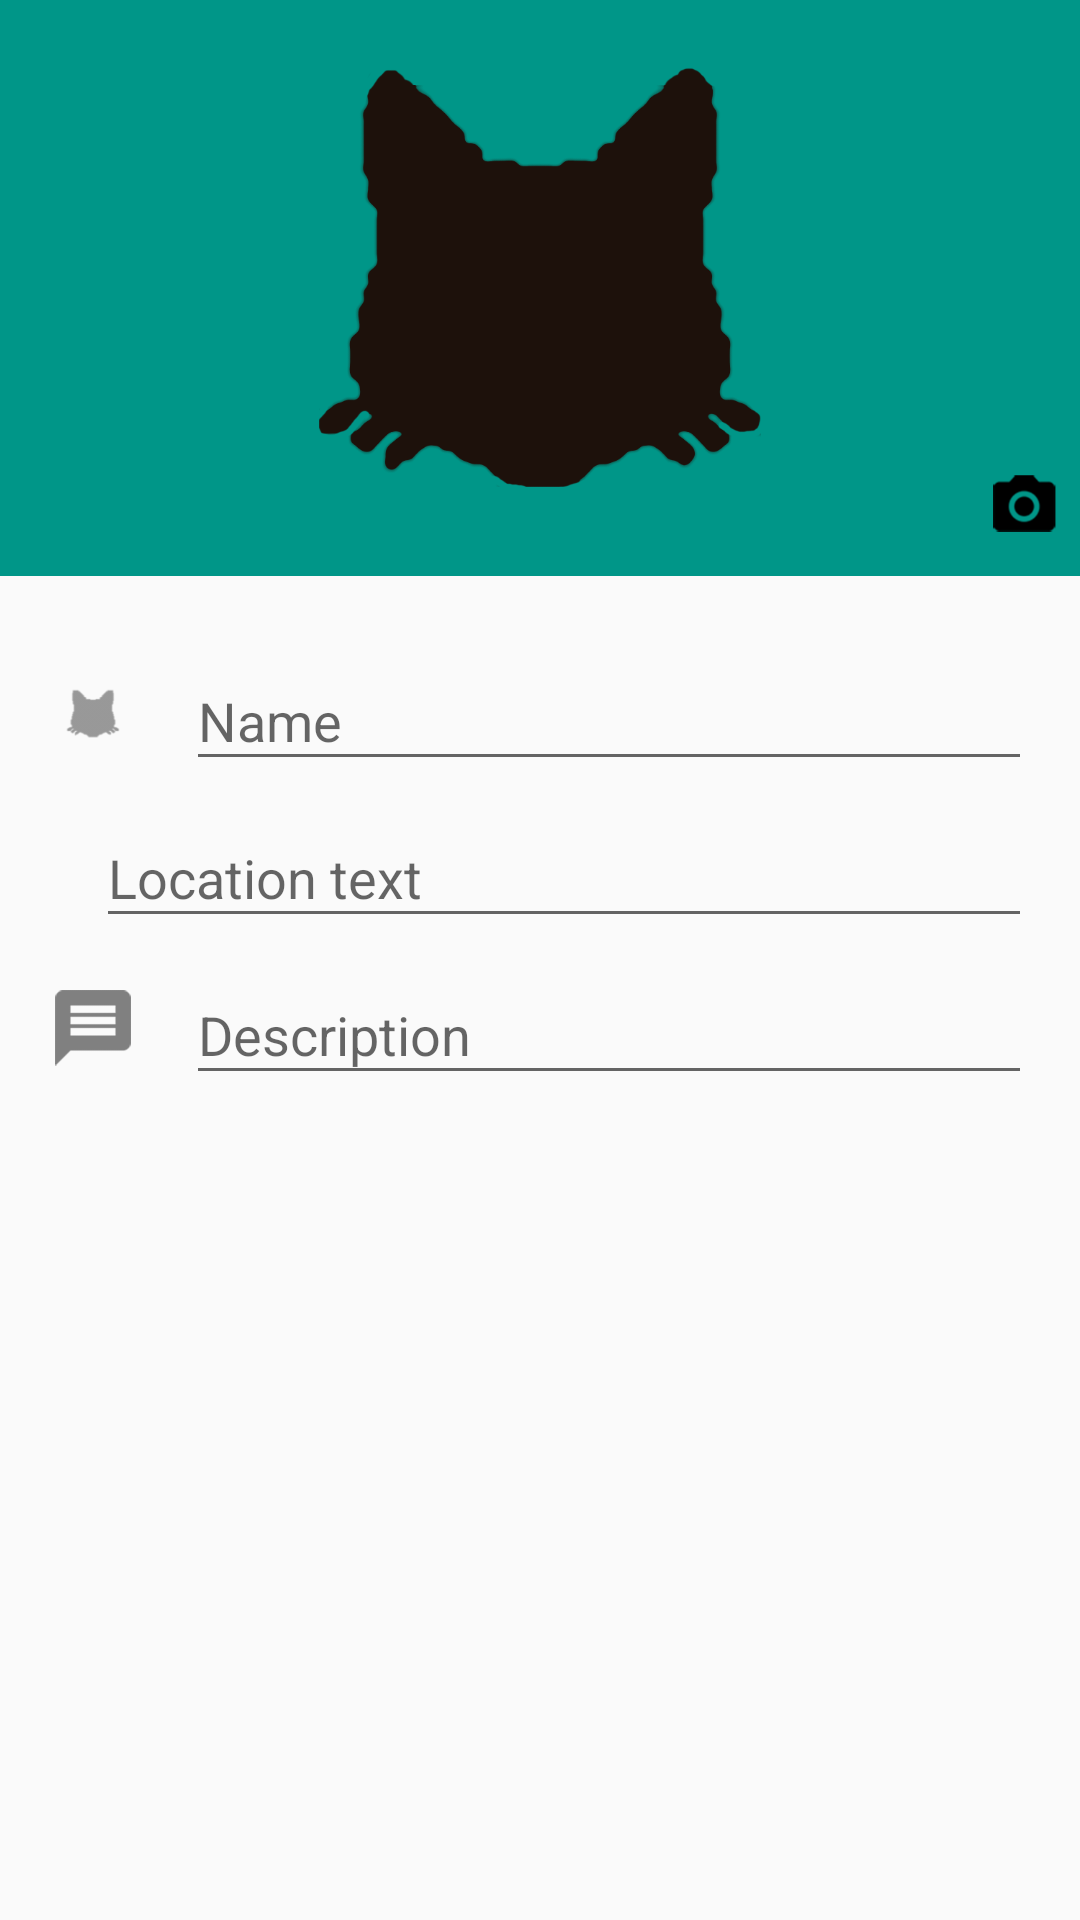

Point at icon controls on the screen. Image size 1080*1920, points as [x,y].
animals: [93,714]
message: [93,1028]
